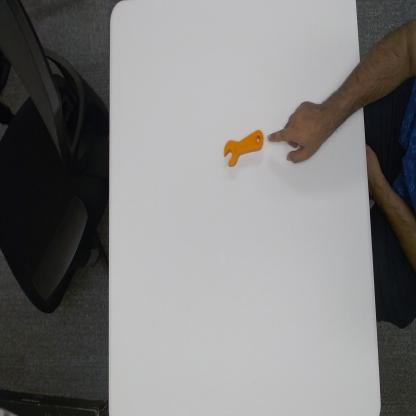Hand: (266, 97, 330, 166)
Screwdriver: (223, 127, 265, 170)
